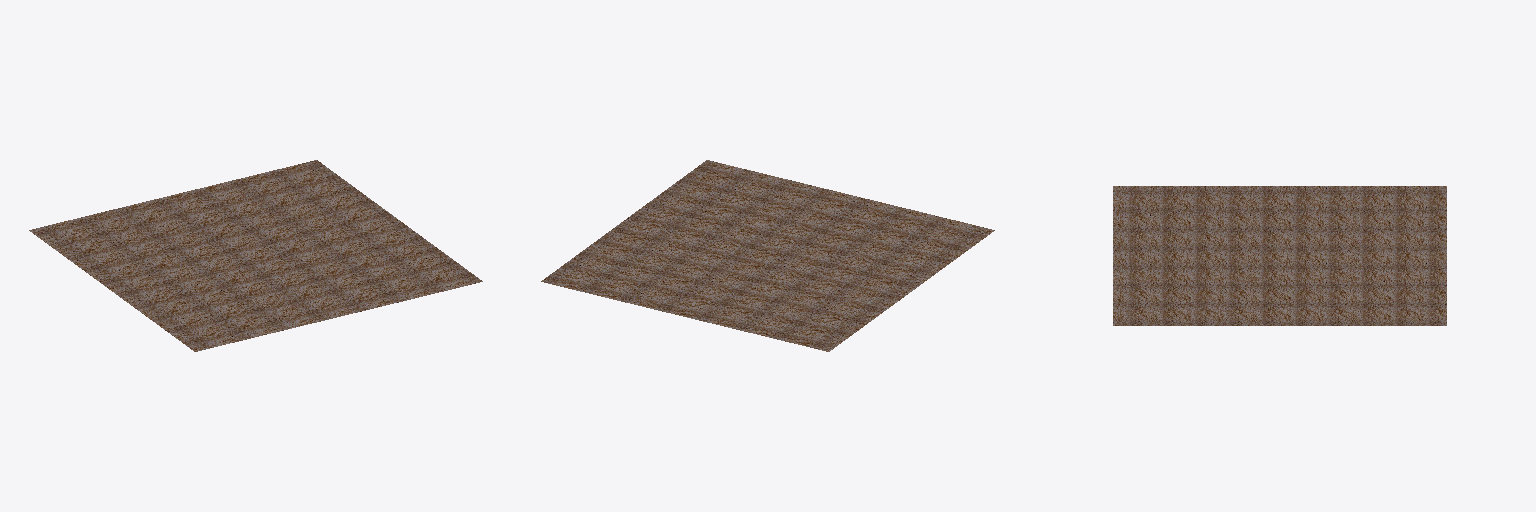
3 renders of one model, left to right at view 1: azimuth 30°, elevation 25°; view 2: azimuth 150°, elevation 25°; view 3: azimuth 270°, elevation 25°, orthographic.
Parts seen in each view (by area): view 1: Water; view 2: Water; view 3: Water.
Part boxes in pixels (x1,y1,x2,y2): Water: (29,160,482,351); Water: (541,160,994,351); Water: (1113,186,1446,325).
Bounding box in the file's own units: 80 × 0 × 80.
1 materials, 1 textured.